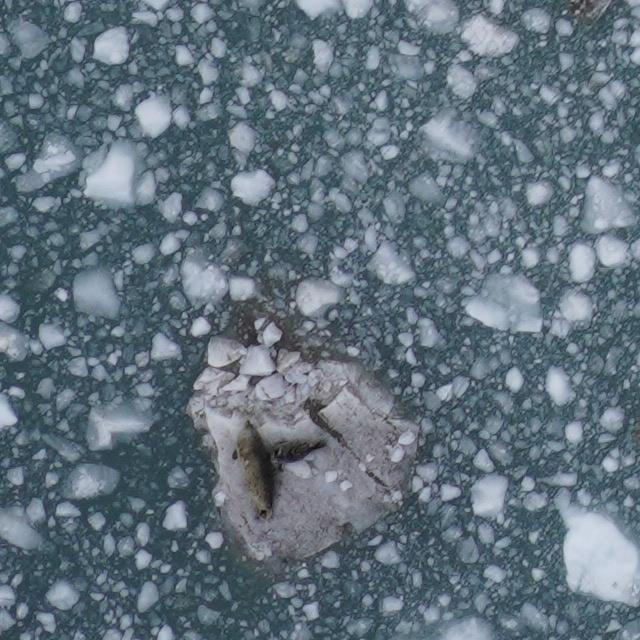seal: (229, 416, 282, 527), (268, 433, 333, 469)
